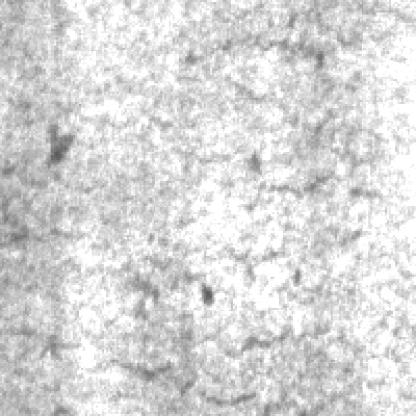crazing: (171, 4, 395, 233), (10, 324, 362, 412)
